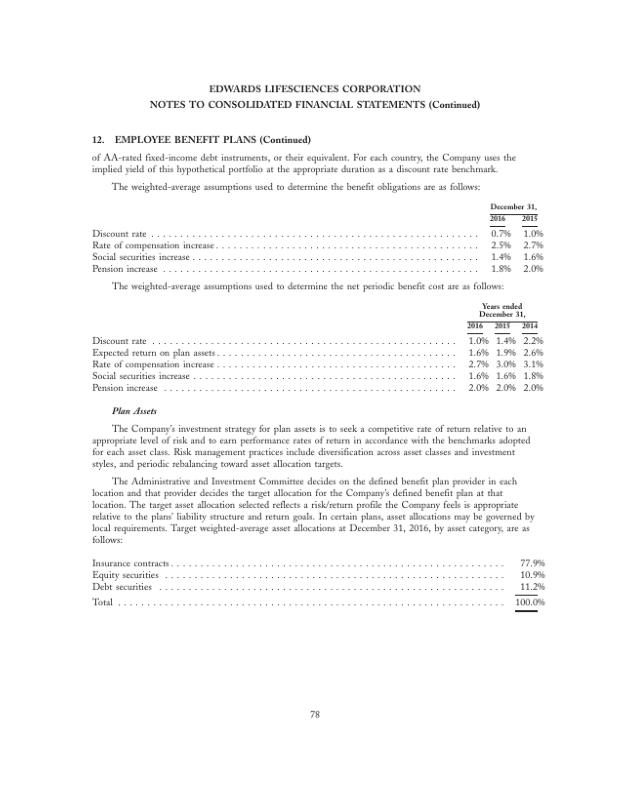table: (465, 300, 547, 397), (484, 198, 542, 277), (515, 552, 546, 616)
